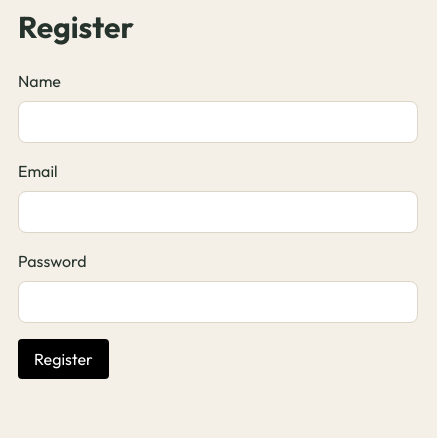
RegisterPage › registers successfully and redirects to login
The image size is (437, 438).
Type "Abina" into the field labelled "Name" at (218,122), box [18,101,418,143]
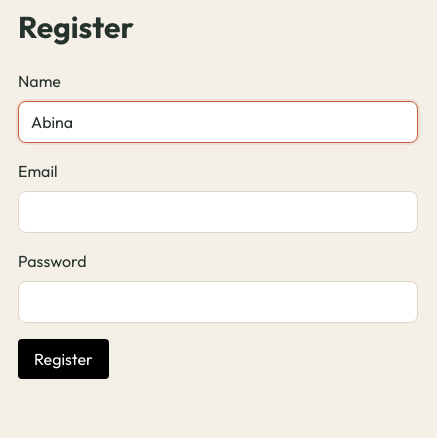
Type "abina@test.com" into the field labelled "Email" at (218,212), box [18,191,418,233]
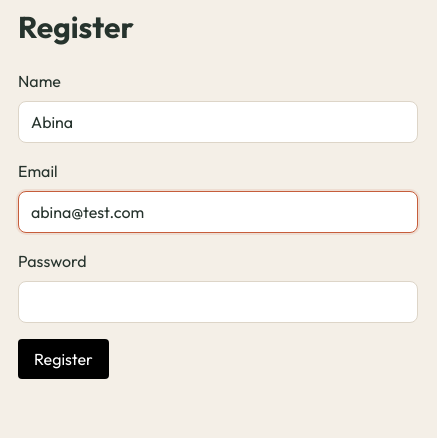
Type "password123" into the password field labelled "Password" at (218,302), box [18,281,418,323]
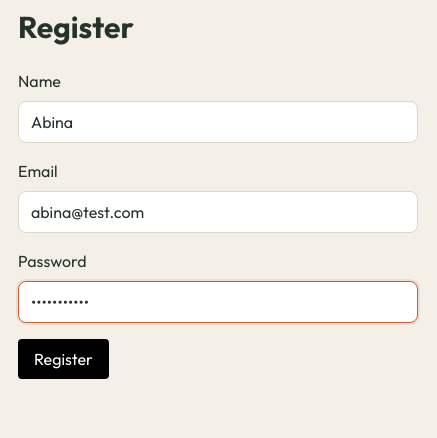
Click the button "Register" at (63,359), box [18,339,109,379]
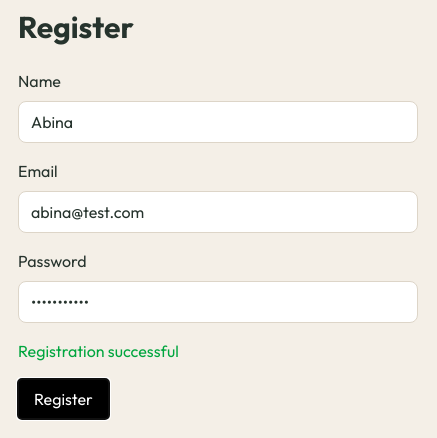
Expected: the text "Registration successful" is shown, [18,341,179,361]
